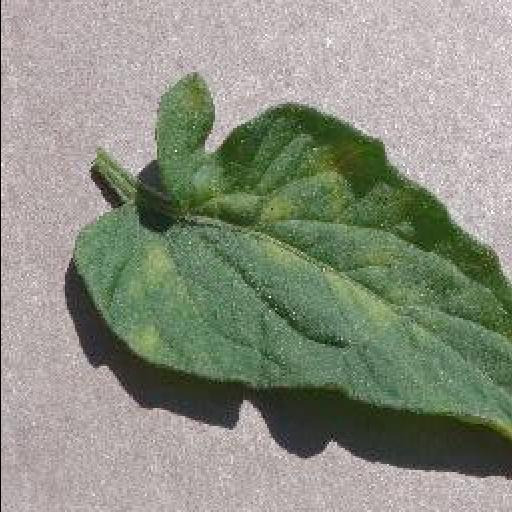disease_tomato: (76, 72, 512, 438)
